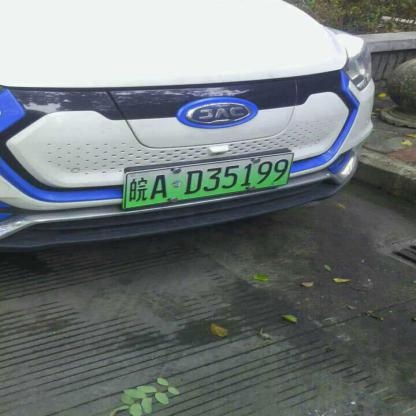lp: (126, 153, 291, 206)
